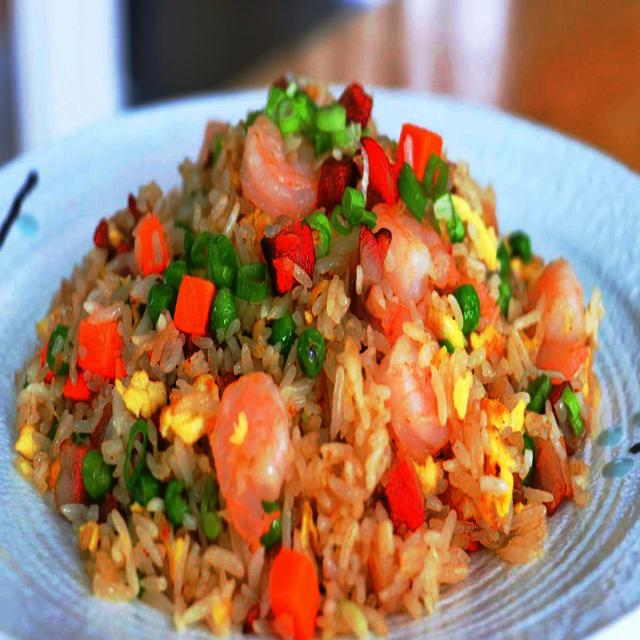Fried Rice: (17, 78, 604, 640)
